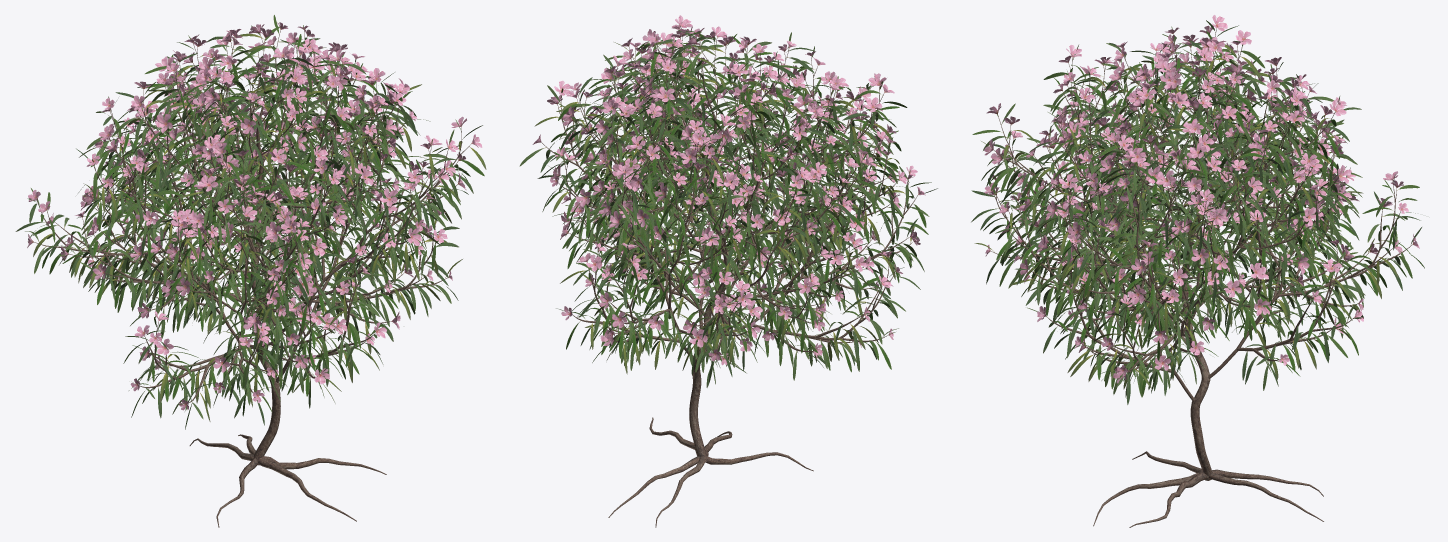
File: FBX_BS09_NeriumOleander_5.fbx
3 views of the same model, side by side, from view 1: azimuth 30°, elevation 25°; view 2: azimuth 150°, elevation 25°; view 3: azimuth 270°, elevation 25° (orthographic). The views are drawn at different scales.
Parts seen in each view (by area): view 1: Leaf01_5, Flower02_5, Bark01_5; view 2: Leaf01_5, Flower02_5, Bark01_5; view 3: Leaf01_5, Flower02_5, Bark01_5.
Part boxes in pixels (<box>): Leaf01_5: <box>15,15,486,429</box>; Flower02_5: <box>27,22,482,410</box>; Bark01_5: <box>34,30,471,527</box>; Leaf01_5: <box>519,30,937,387</box>; Flower02_5: <box>532,15,925,365</box>; Bark01_5: <box>541,28,917,527</box>; Leaf01_5: <box>971,20,1424,404</box>; Flower02_5: <box>984,15,1419,383</box>; Bark01_5: <box>991,28,1412,527</box>.
Bounding box in the file's own units: 226 × 255 × 235.
